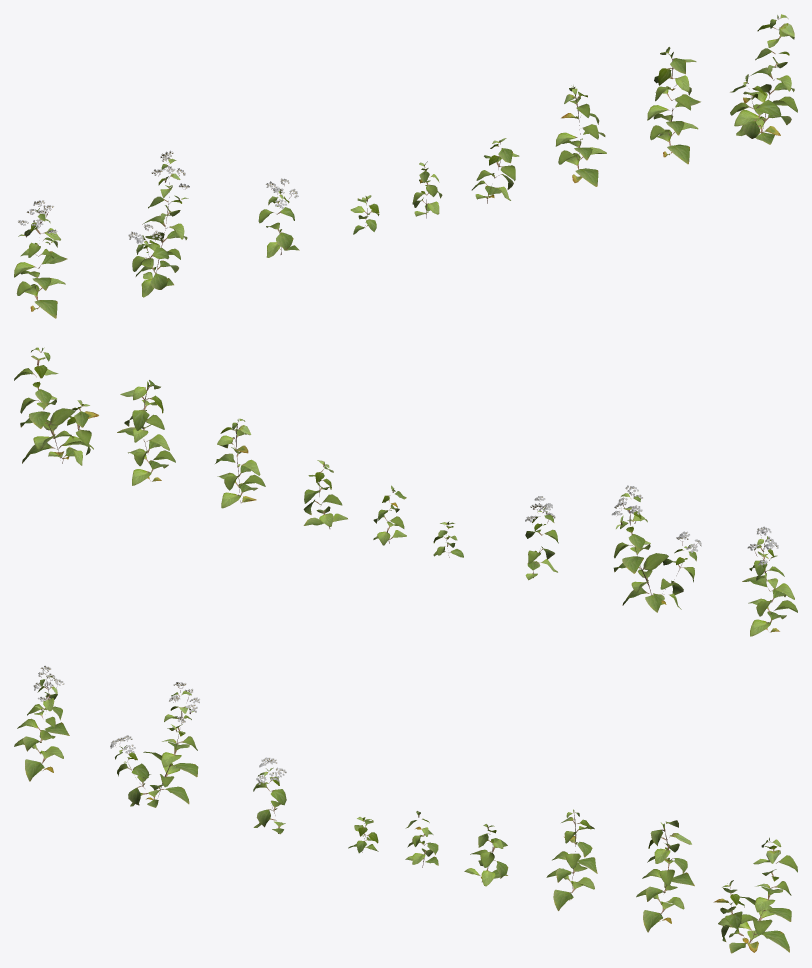
File: shrub_01.glb
The picture shows the model from 3 angles, top to bottom: view 1: azimuth 30°, elevation 25°; view 2: azimuth 150°, elevation 25°; view 3: azimuth 330°, elevation 25°; orthographic projection. The views are drawn at different scales.
Parts seen in each view (by area): view 1: shrub_01_a; view 2: shrub_01_a; view 3: shrub_01_a.
Boxes of the visible parts, x1,y1,x2,y2 form: shrub_01_a: [14, 14, 797, 318]; shrub_01_a: [14, 347, 797, 636]; shrub_01_a: [14, 665, 797, 953].
Size of the model in its own units: 2.59 by 0.3965 by 0.2195.
1 material, 1 textured.
